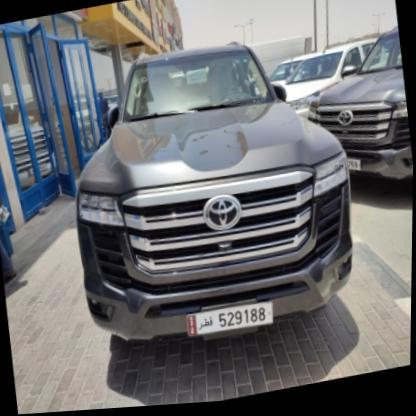np: (183, 296, 278, 348)
